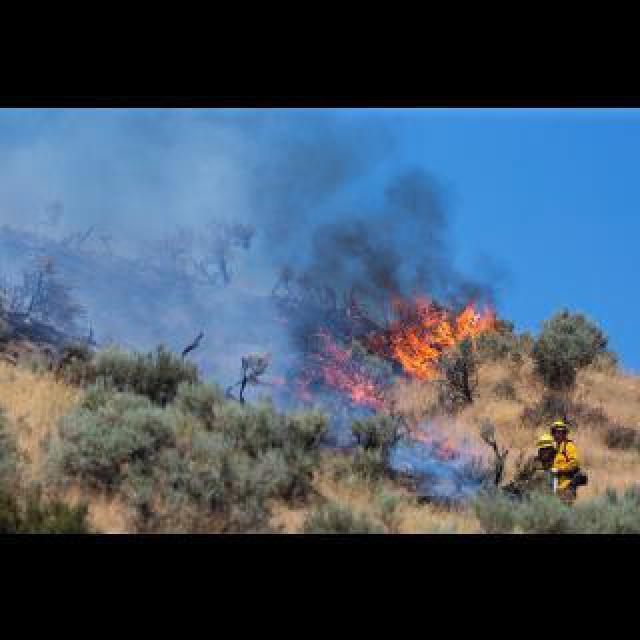Fire: (378, 272, 516, 386), (268, 334, 384, 406)
Smoke: (276, 158, 457, 346)
